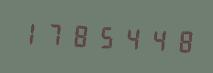eight: (67, 17, 91, 52), (167, 23, 191, 57)
five: (92, 19, 116, 53)
four: (142, 21, 166, 56), (117, 20, 141, 54)
one: (17, 15, 41, 49)
seven: (42, 16, 66, 50)
